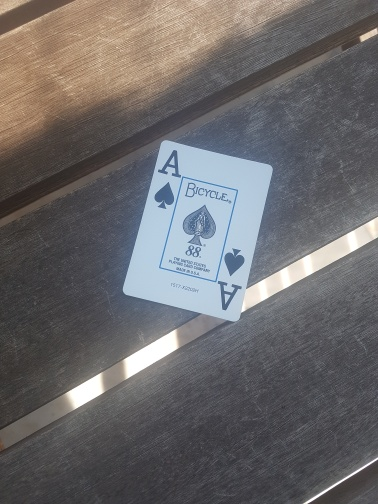ace: (122, 141, 273, 322)
